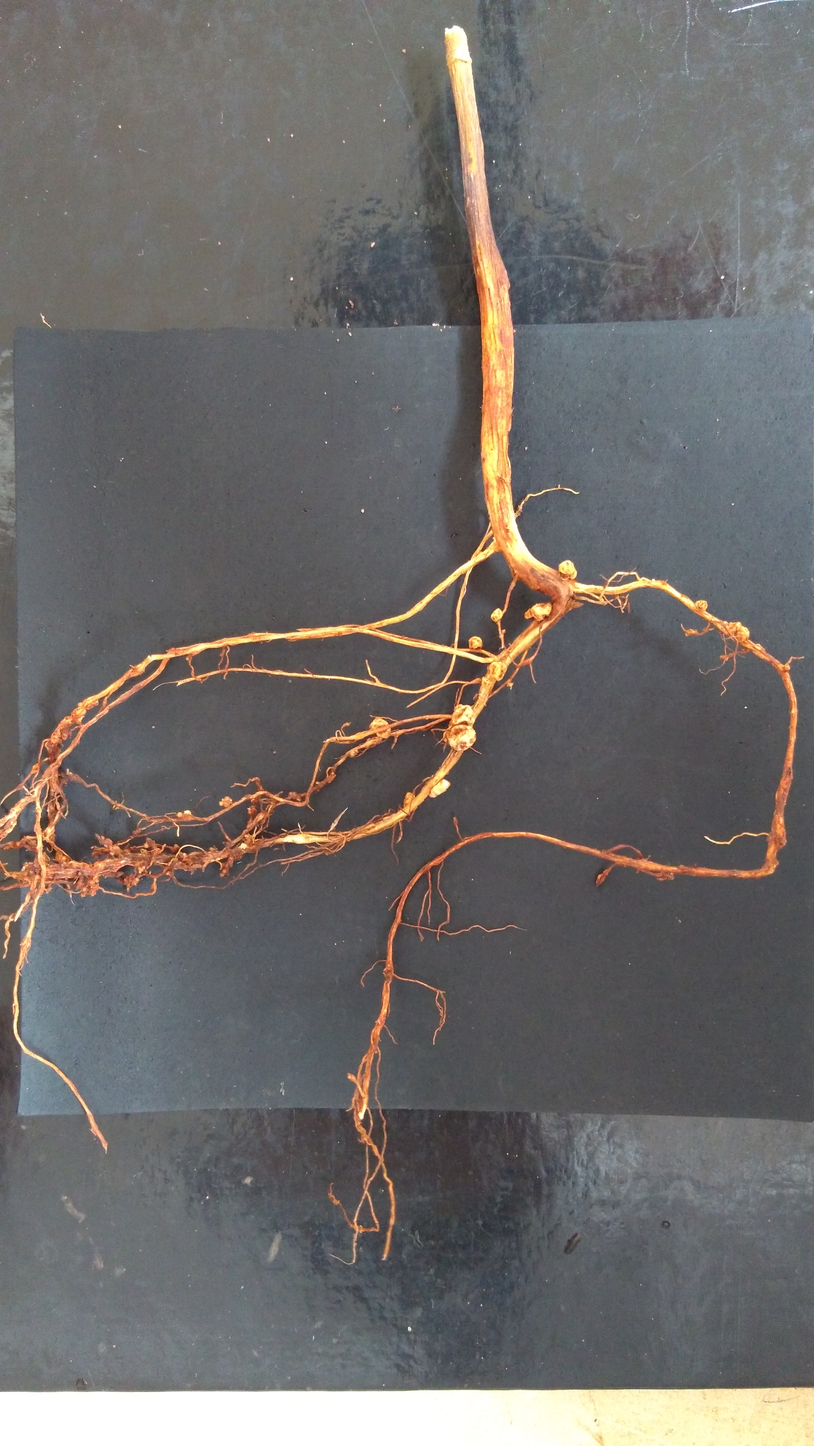nodule: (447, 724, 476, 751), (420, 774, 450, 798), (443, 718, 468, 743), (524, 602, 552, 622), (369, 716, 392, 739), (452, 704, 476, 725), (487, 661, 507, 682), (50, 725, 71, 745), (558, 560, 577, 581), (80, 879, 100, 898), (33, 852, 50, 874), (403, 792, 418, 811), (722, 620, 741, 634), (77, 698, 99, 710), (70, 707, 86, 723), (734, 625, 749, 642), (54, 850, 68, 868), (43, 825, 56, 842), (57, 716, 75, 728), (468, 636, 483, 650), (21, 861, 36, 875), (365, 736, 382, 748), (490, 608, 503, 623), (481, 676, 493, 690), (218, 796, 232, 808), (694, 600, 708, 612), (242, 833, 255, 845), (143, 837, 156, 849), (288, 791, 302, 802), (27, 838, 38, 851), (247, 805, 257, 816), (109, 845, 120, 855), (740, 645, 751, 655), (684, 628, 696, 637), (349, 748, 359, 758), (131, 876, 140, 887), (92, 872, 101, 883), (31, 763, 39, 775), (104, 838, 113, 848), (250, 794, 258, 804), (219, 868, 227, 878), (719, 654, 729, 662), (137, 865, 146, 873), (472, 693, 479, 702), (140, 847, 147, 855), (65, 768, 72, 776), (209, 846, 218, 852), (506, 681, 514, 687), (183, 810, 192, 815), (176, 812, 183, 818), (174, 843, 181, 849), (165, 869, 171, 876), (783, 665, 790, 671), (501, 629, 506, 635), (599, 598, 605, 603), (100, 835, 105, 840), (651, 578, 655, 582)
